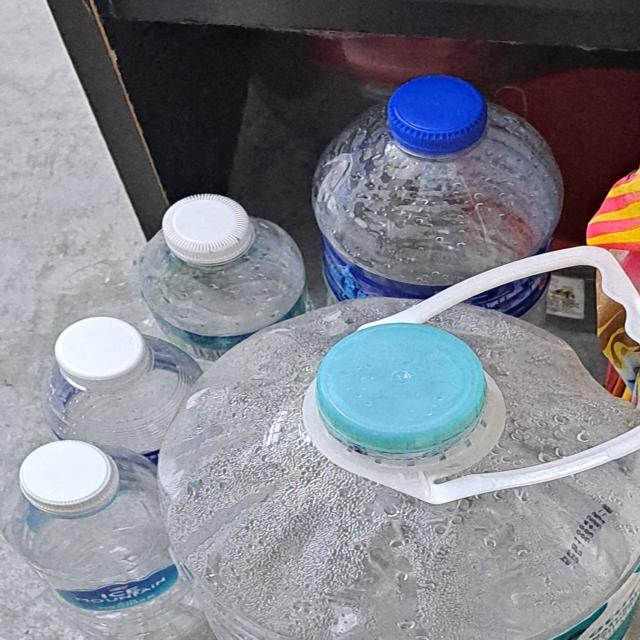plastic bottle: (159, 290, 640, 640), (305, 71, 570, 331), (5, 451, 203, 640), (117, 212, 322, 369), (38, 344, 234, 473)
plastic bottle cap: (302, 320, 498, 468), (388, 73, 489, 155), (52, 316, 155, 393), (21, 438, 122, 513), (158, 190, 255, 265)
